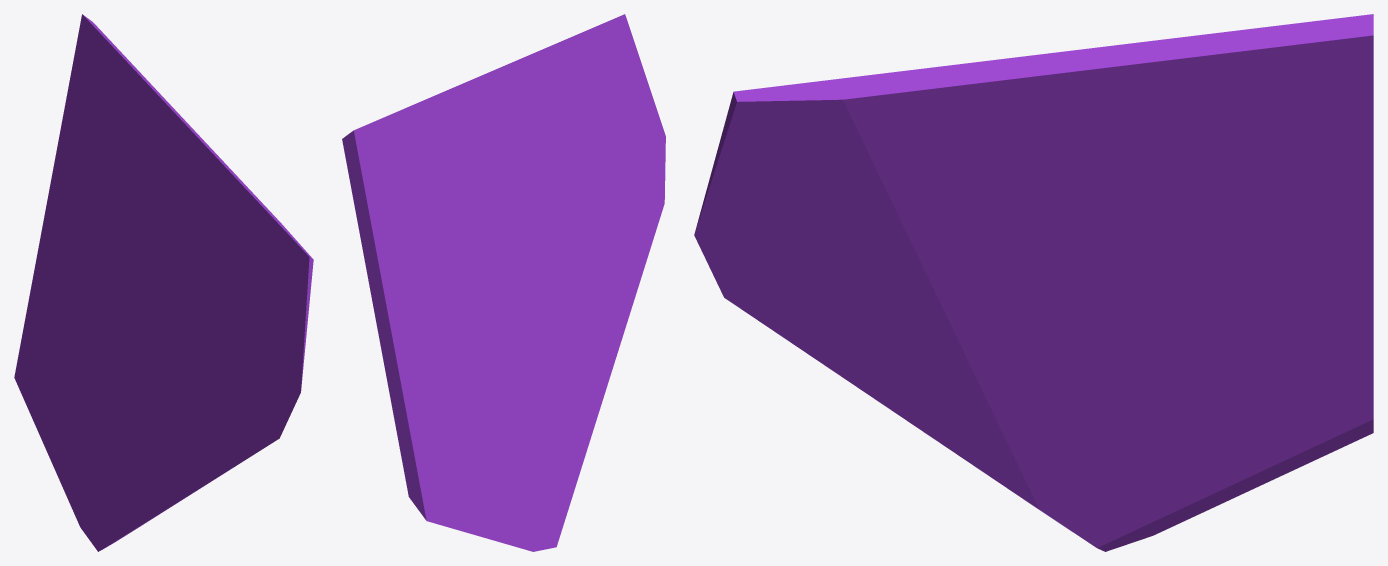
The model's file is Window_4_3_chunks.fbx.
3 renders of one model, left to right at view 1: azimuth 30°, elevation 25°; view 2: azimuth 150°, elevation 25°; view 3: azimuth 270°, elevation 25°, orthographic. The views are drawn at different scales.
Parts seen in each view (by area): view 1: Window_4_3_1, Window_4_3_7, Window_4_3_0, Window_4_3_4, Window_4_3_14, Window_4_3_5, Window_4_3_15, Window_4_3_3, Window_4_3_12, Window_4_3_8, Window_4_3_9, Window_4_3_11 (+4 smaller); view 2: Window_4_3_1, Window_4_3_7, Window_4_3_0, Window_4_3_14, Window_4_3_4, Window_4_3_5, Window_4_3_3, Window_4_3_15, Window_4_3_12, Window_4_3_8, Window_4_3_9, Window_4_3_11 (+4 smaller); view 3: Window_4_3_1, Window_4_3_7, Window_4_3_14, Window_4_3_4, Window_4_3_5, Window_4_3_8, Window_4_3_15, Window_4_3_12, Window_4_3_9, Window_4_3_3, Window_4_3_11, Window_4_3_0 (+1 smaller).
Part boxes in pixels (left/top/right/bottom): Window_4_3_1: left=14, top=275, right=149, bottom=551; Window_4_3_7: left=185, top=172, right=313, bottom=344; Window_4_3_0: left=33, top=151, right=157, bottom=381; Window_4_3_4: left=207, top=303, right=309, bottom=454; Window_4_3_14: left=57, top=14, right=145, bottom=180; Window_4_3_5: left=128, top=354, right=198, bottom=532; Window_4_3_15: left=124, top=59, right=233, bottom=176; Window_4_3_3: left=163, top=399, right=253, bottom=510; Window_4_3_12: left=142, top=167, right=237, bottom=235; Window_4_3_8: left=56, top=150, right=137, bottom=259; Window_4_3_9: left=128, top=273, right=191, bottom=357; Window_4_3_11: left=136, top=209, right=188, bottom=309; Window_4_3_1: left=382, top=337, right=574, bottom=551; Window_4_3_7: left=518, top=14, right=638, bottom=249; Window_4_3_0: left=371, top=278, right=538, bottom=409; Window_4_3_14: left=342, top=109, right=449, bottom=276; Window_4_3_4: left=590, top=56, right=665, bottom=271; Window_4_3_5: left=536, top=285, right=595, bottom=488; Window_4_3_3: left=585, top=252, right=649, bottom=423; Window_4_3_15: left=404, top=54, right=530, bottom=152; Window_4_3_12: left=468, top=62, right=529, bottom=210; Window_4_3_8: left=367, top=215, right=480, bottom=292; Window_4_3_9: left=490, top=225, right=559, bottom=305; Window_4_3_11: left=466, top=191, right=544, bottom=255; Window_4_3_1: left=1028, top=264, right=1373, bottom=551; Window_4_3_7: left=720, top=64, right=1034, bottom=281; Window_4_3_14: left=1136, top=14, right=1373, bottom=180; Window_4_3_4: left=694, top=140, right=930, bottom=337; Window_4_3_5: left=917, top=300, right=1045, bottom=502; Window_4_3_8: left=1122, top=179, right=1373, bottom=282; Window_4_3_15: left=956, top=28, right=1254, bottom=122; Window_4_3_12: left=959, top=74, right=1161, bottom=181; Window_4_3_9: left=967, top=237, right=1166, bottom=321; Window_4_3_3: left=783, top=334, right=948, bottom=448; Window_4_3_11: left=993, top=180, right=1151, bottom=243; Window_4_3_0: left=1186, top=201, right=1373, bottom=277.
Bounding box in the file's own units: 203 × 884 × 922.
